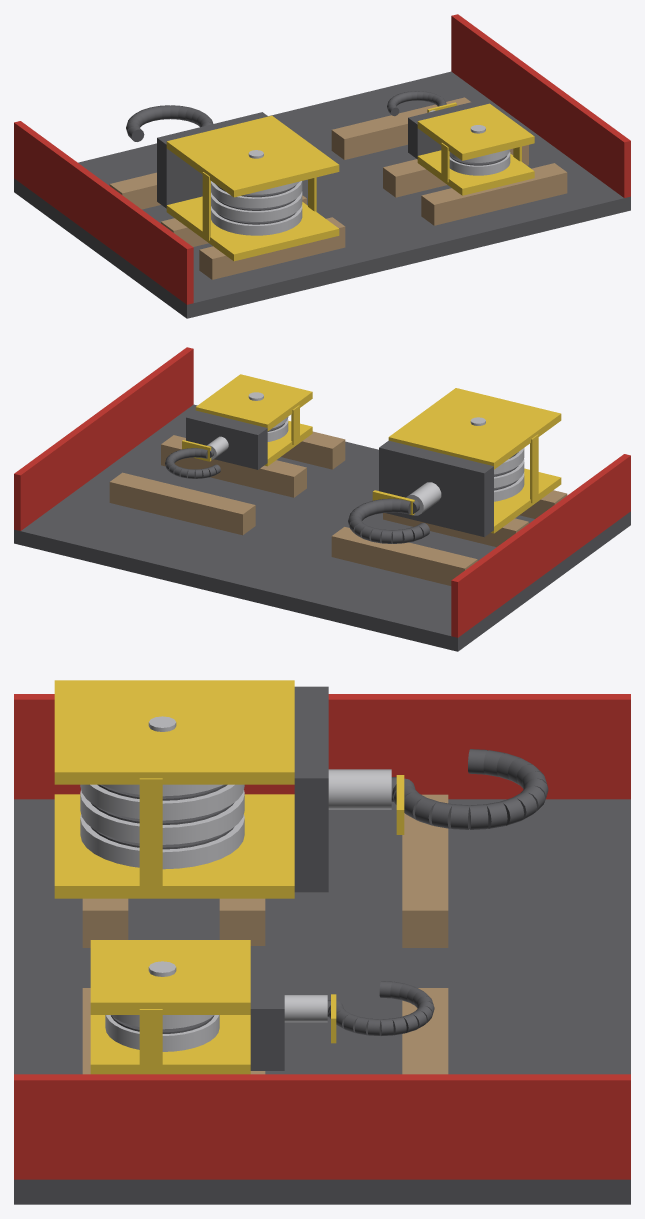
File: SM_SpareHookBlocks.fbx
3 renders of one model, top to bottom at view 1: azimuth 30°, elevation 25°; view 2: azimuth 150°, elevation 25°; view 3: azimuth 270°, elevation 25°, orthographic. The views are drawn at different scales.
Parts seen in each view (by area): view 1: SHB_Stand, SHB_Block50t_Frame, SHB_Block16t_Frame, SHB_Block50t_Hook, SHB_Block50t_Sheave1, SHB_Block50t_Sheave2, SHB_Block50t_Sheave3, SHB_Block16t_Sheave1, SHB_Block16t_Hook; view 2: SHB_Stand, SHB_Block50t_Frame, SHB_Block16t_Frame, SHB_Block50t_Hook, SHB_Block16t_Hook, SHB_Block50t_Sheave1, SHB_Block50t_Sheave2; view 3: SHB_Stand, SHB_Block50t_Frame, SHB_Block16t_Frame, SHB_Block50t_Hook, SHB_Block16t_Hook, SHB_Block50t_Sheave2, SHB_Block50t_Sheave1, SHB_Block50t_Sheave3, SHB_Block16t_Sheave1, SHB_Block50t_Sheave4, SHB_Block16t_Sheave2.
Part boxes in pixels (<box>): SHB_Stand: <box>14,14,630,318</box>; SHB_Block50t_Frame: <box>157,112,339,261</box>; SHB_Block16t_Frame: <box>408,100,534,195</box>; SHB_Block50t_Hook: <box>126,105,213,141</box>; SHB_Block50t_Sheave1: <box>211,205,302,235</box>; SHB_Block50t_Sheave2: <box>211,191,302,221</box>; SHB_Block50t_Sheave3: <box>211,181,302,208</box>; SHB_Block16t_Sheave1: <box>449,152,510,175</box>; SHB_Block16t_Hook: <box>387,91,456,116</box>; SHB_Stand: <box>14,347,630,651</box>; SHB_Block50t_Frame: <box>379,388,561,537</box>; SHB_Block16t_Frame: <box>186,374,312,469</box>; SHB_Block50t_Hook: <box>348,482,441,543</box>; SHB_Block16t_Hook: <box>165,436,228,478</box>; SHB_Block50t_Sheave1: <box>494,472,524,501</box>; SHB_Block50t_Sheave2: <box>494,459,524,487</box>; SHB_Stand: <box>14,694,630,1204</box>; SHB_Block50t_Frame: <box>54,680,328,898</box>; SHB_Block16t_Frame: <box>90,940,284,1074</box>; SHB_Block50t_Hook: <box>328,749,548,834</box>; SHB_Block16t_Hook: <box>284,981,434,1043</box>; SHB_Block50t_Sheave2: <box>80,790,244,844</box>; SHB_Block50t_Sheave1: <box>80,814,244,869</box>; SHB_Block50t_Sheave3: <box>80,784,244,820</box>; SHB_Block16t_Sheave1: <box>105,1015,219,1051</box>; SHB_Block50t_Sheave4: <box>102,784,222,796</box>; SHB_Block16t_Sheave2: <box>111,1015,213,1029</box>.
Size of the model in its own units: 400 by 93 by 270.
